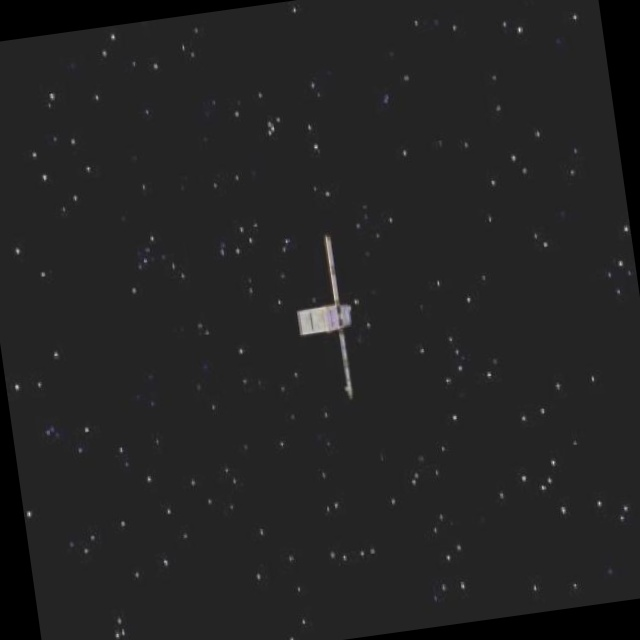medium_debris: (274, 222, 388, 411)
